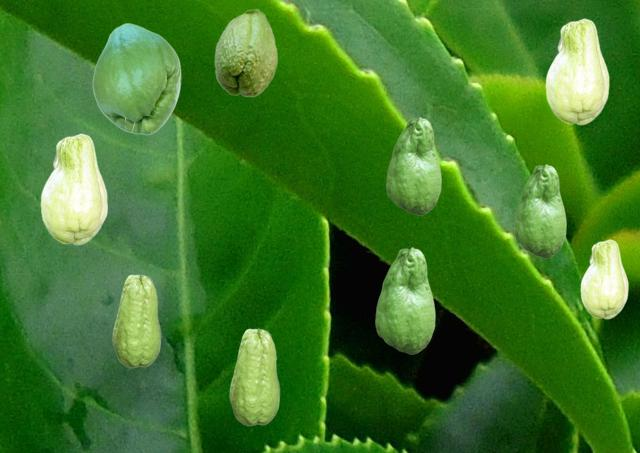sayote: (92, 23, 180, 134), (40, 133, 106, 244), (545, 18, 608, 124), (375, 247, 434, 353), (214, 8, 277, 96), (386, 117, 440, 214), (229, 328, 279, 425), (514, 164, 565, 257), (112, 274, 160, 367), (580, 239, 627, 318)
